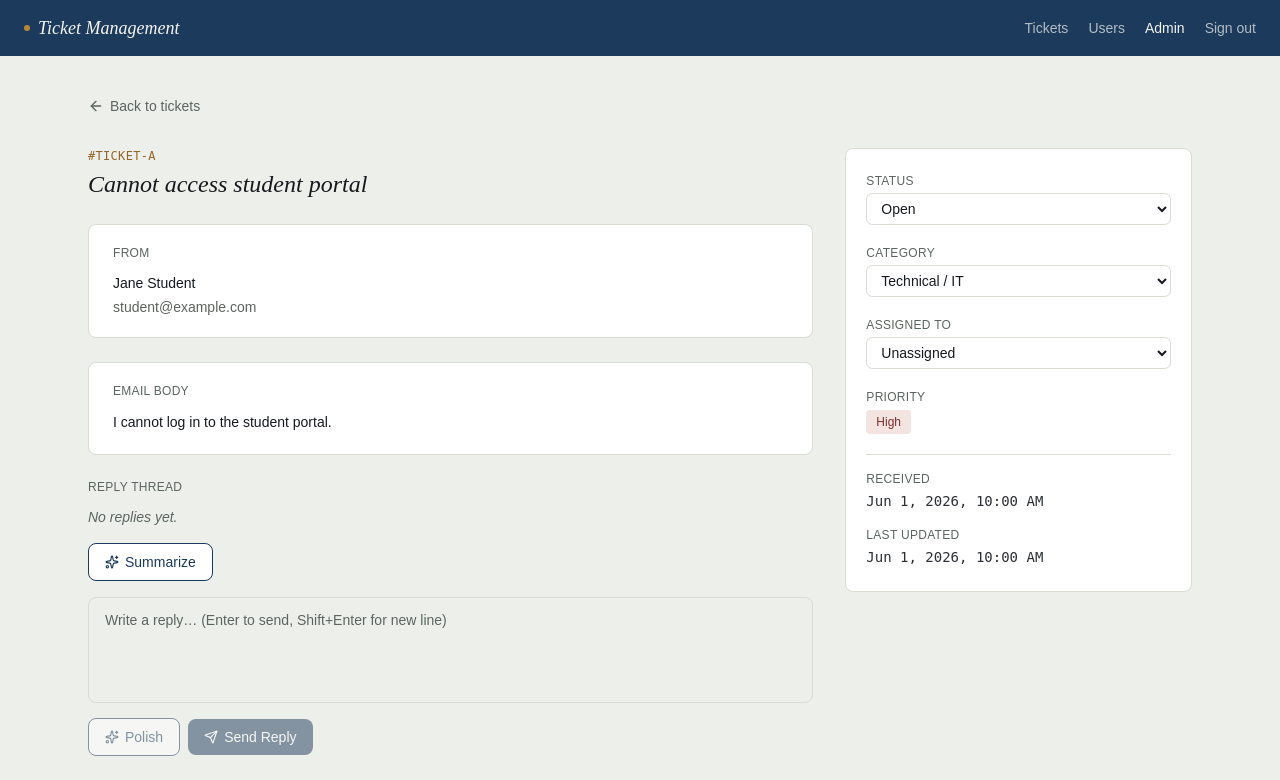
Test: TicketDetailPage › reply thread › posts a new reply and shows it in the thread
The width and height of the screenshot is (1280, 780).
Expected: the heading "Cannot access student portal" is shown, [88,171,367,197]
Type "Issue has been resolved." into the text box with placeholder "Write a reply… (Enter to send, Shift+Enter for new line)" at point(451, 650), box [88,597,813,703]
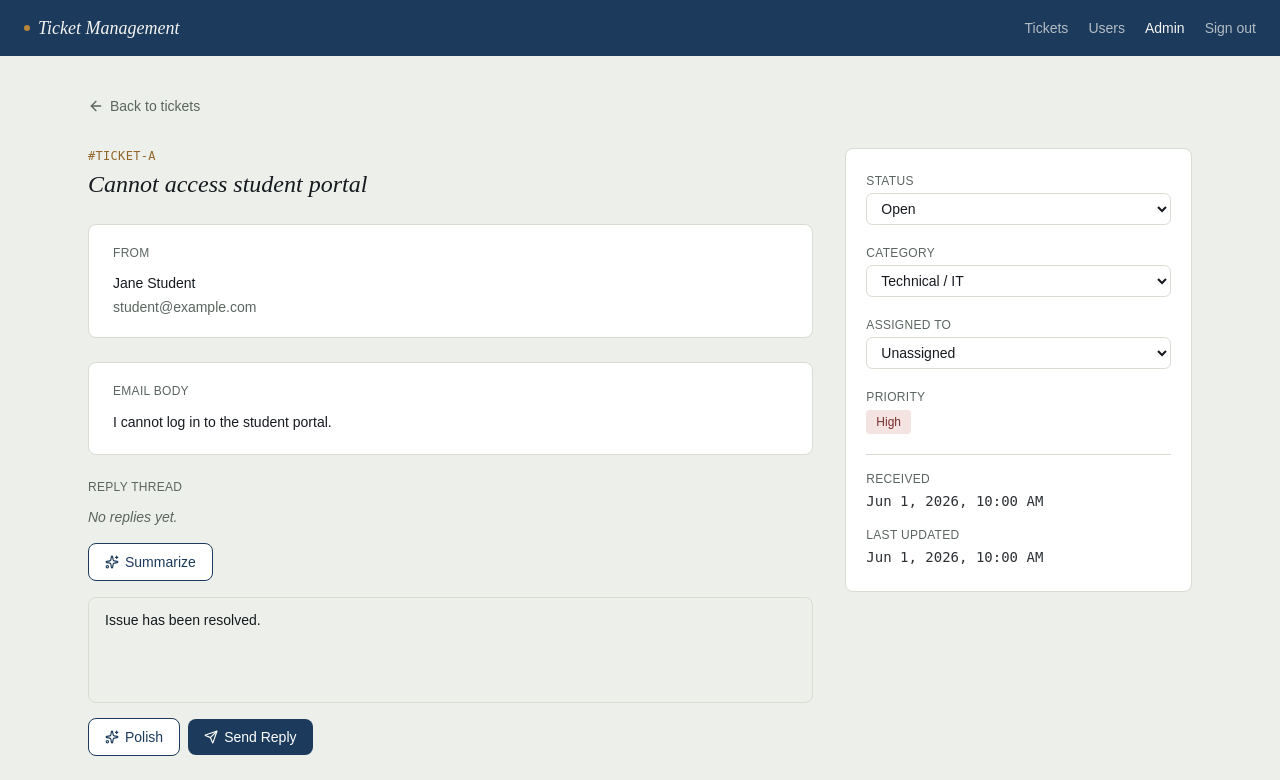
Click the button "Send Reply" at point(250, 737), box [188,719,312,755]
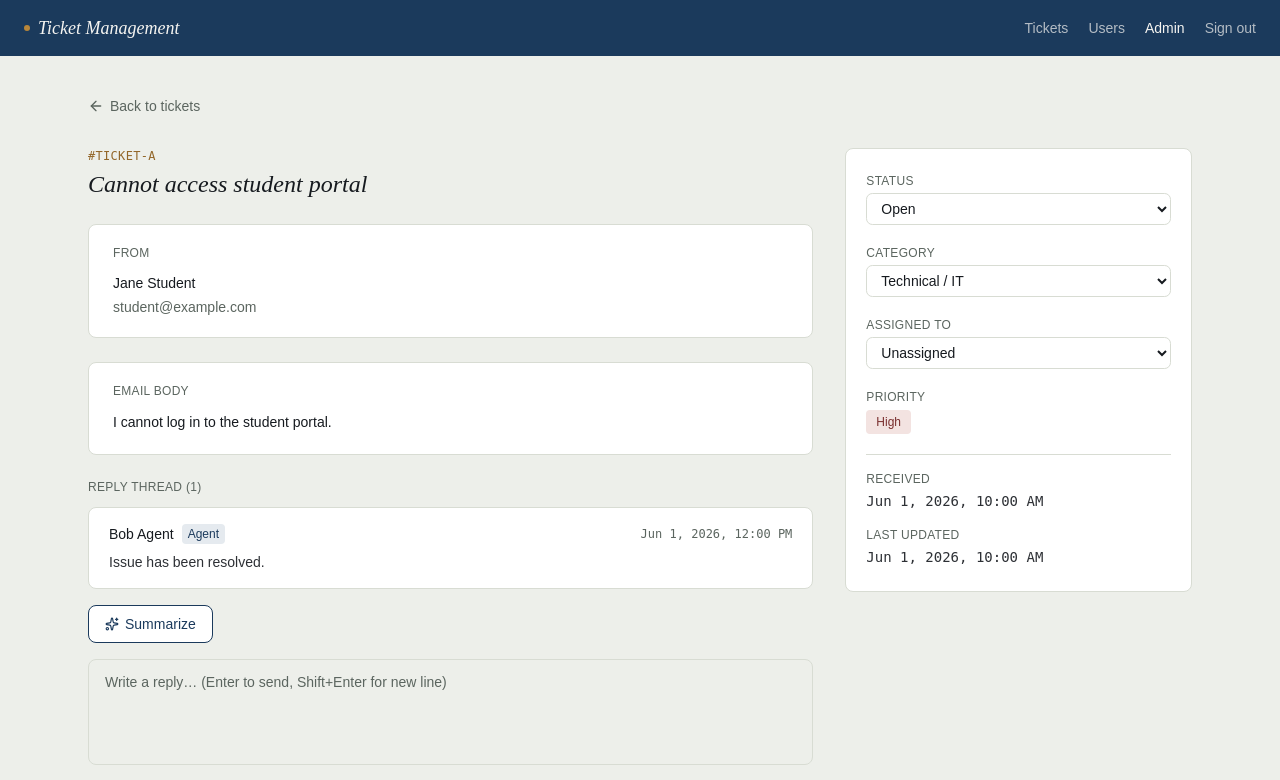
Now the text "Issue has been resolved." is shown, box [109,554,265,570]
